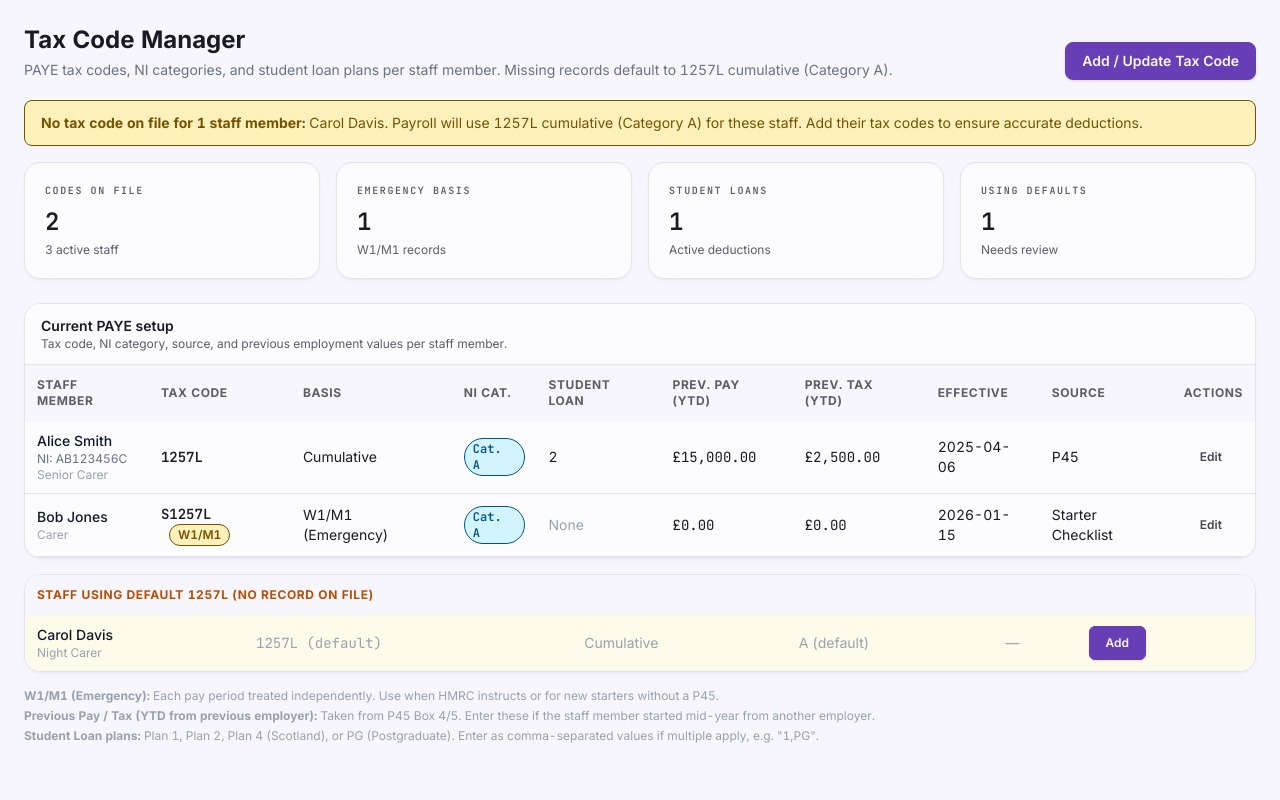
TaxCodeManager › opens modal when admin clicks Add / Update Tax Code
Click the button "Add / Update Tax Code": (1161, 61) [1065,42,1256,80]
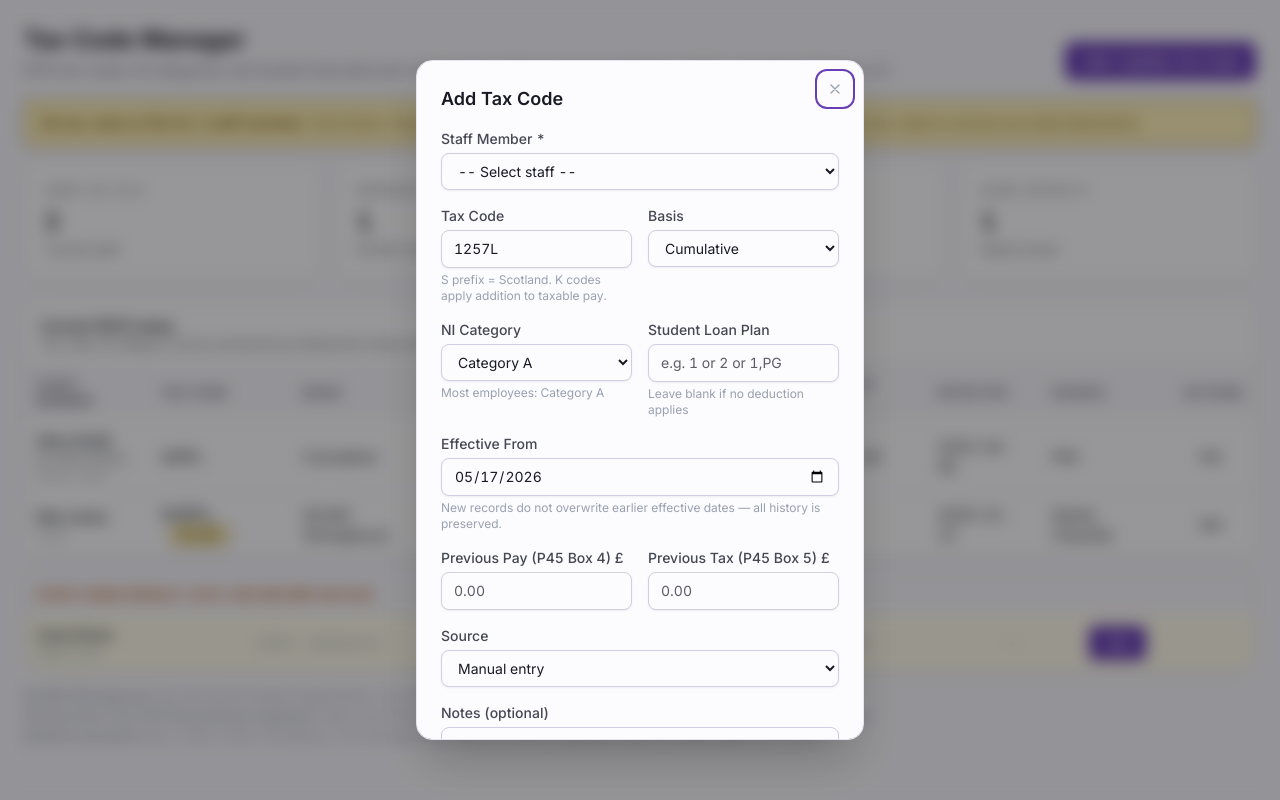
Now the dialog is shown
Now the heading "Add Tax Code" is shown, box [441,88,563,109]
Now the text "NI Category" is shown, box [441,321,521,338]
